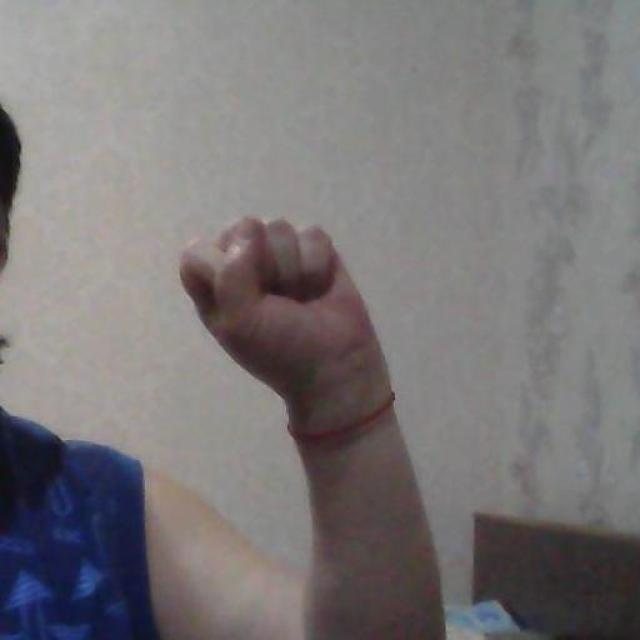hand: (178, 214, 396, 444)
